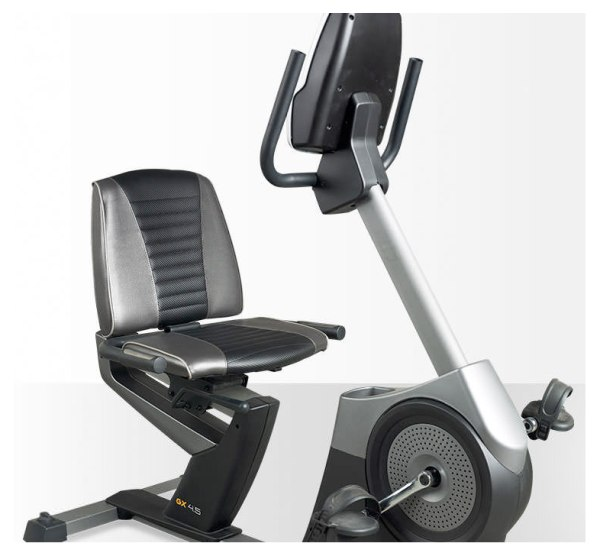gym_bike: (12, 14, 578, 550)
